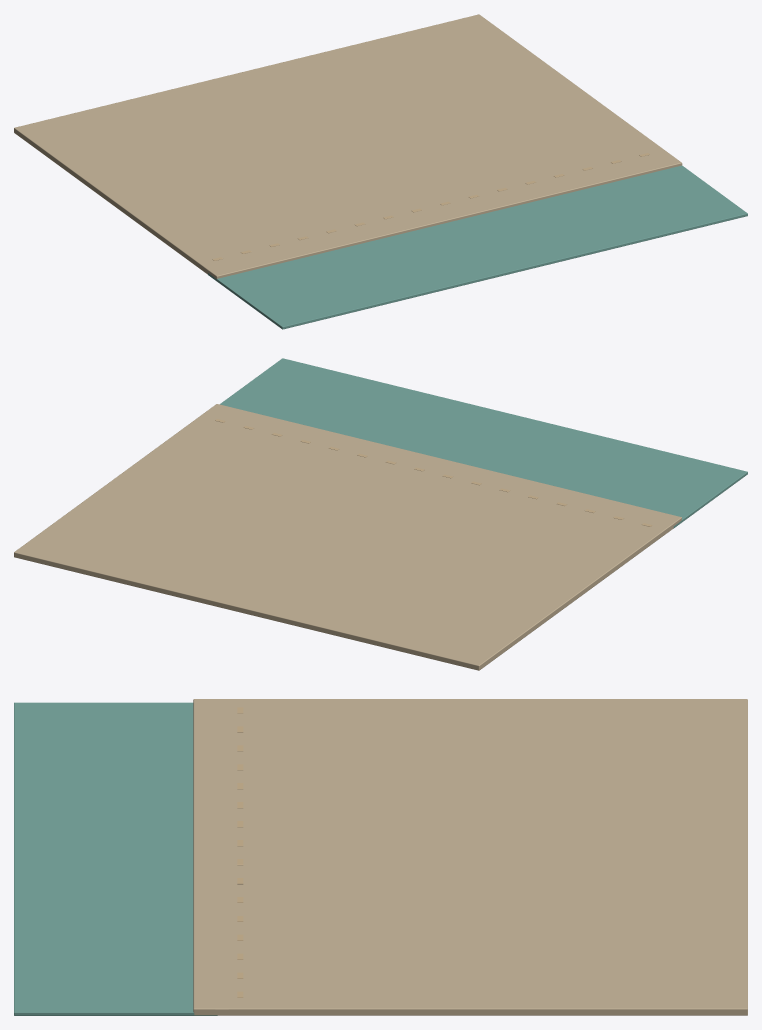
File: coastal-saltworks-and-trade-port-coastal-saltworks-and-ae813b17__31409.glb
3 renders of one model, top to bottom at view 1: azimuth 30°, elevation 25°; view 2: azimuth 150°, elevation 25°; view 3: azimuth 270°, elevation 25°, orthographic. The views are drawn at different scales.
Visible parts, largest first — view 1: coastal-saltworks-and-trade-port-coastal-saltworks-base; view 2: coastal-saltworks-and-trade-port-coastal-saltworks-base; view 3: coastal-saltworks-and-trade-port-coastal-saltworks-base.
Boxes of the visible parts, <box> form: coastal-saltworks-and-trade-port-coastal-saltworks-base: <box>14,14,747,329</box>; coastal-saltworks-and-trade-port-coastal-saltworks-base: <box>14,358,747,670</box>; coastal-saltworks-and-trade-port-coastal-saltworks-base: <box>14,699,747,1015</box>.
Size of the model in its own units: 18 by 0.2127 by 18.
